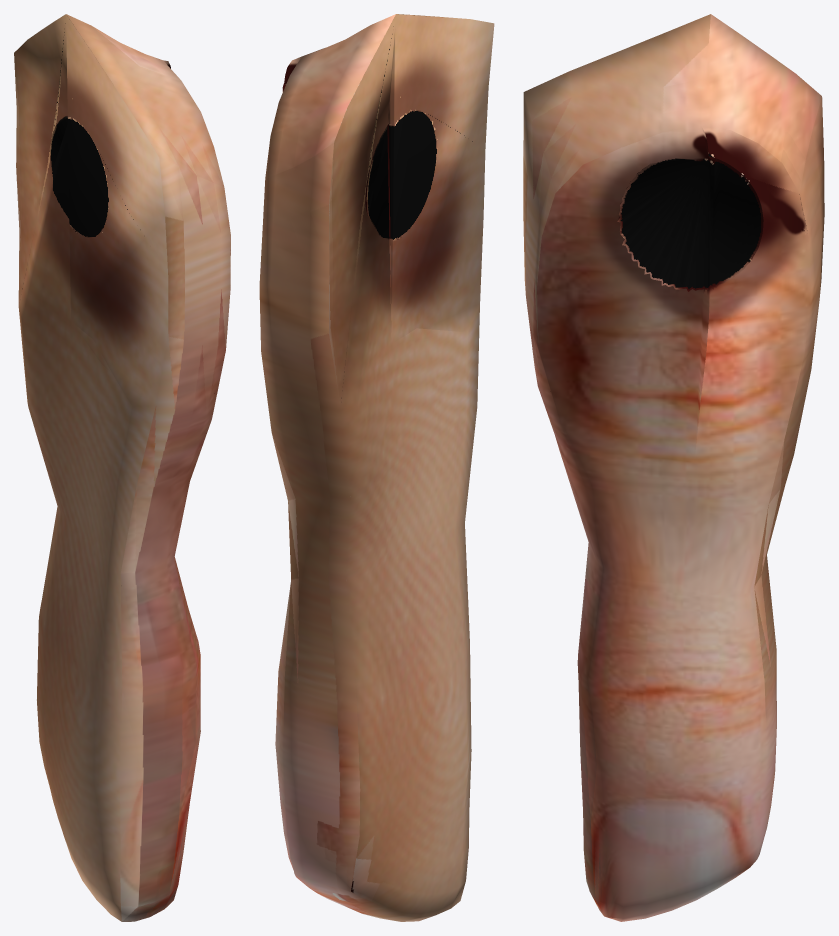
The model's file is braco1.fbx.
3 renders of one model, left to right at view 1: azimuth 30°, elevation 25°; view 2: azimuth 150°, elevation 25°; view 3: azimuth 270°, elevation 25°, orthographic. The views are drawn at different scales.
Visible parts, largest first — view 1: ArMonster; view 2: ArMonster; view 3: ArMonster.
Boxes of the visible parts, x1=… form: ArMonster: x1=14, y1=14, x2=230, y2=921; ArMonster: x1=259, y1=14, x2=494, y2=921; ArMonster: x1=523, y1=14, x2=824, y2=921.
Size of the model in its own units: 116 by 736 by 226.
